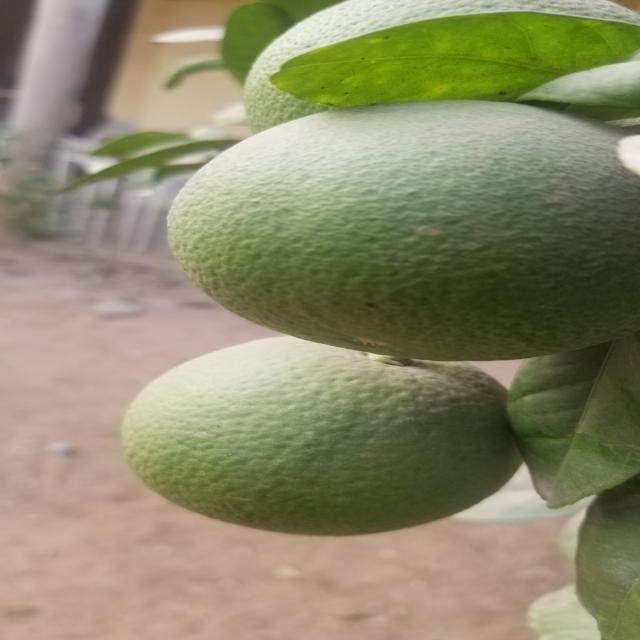Unripe: (179, 101, 640, 357), (124, 341, 526, 529), (238, 0, 637, 119)
